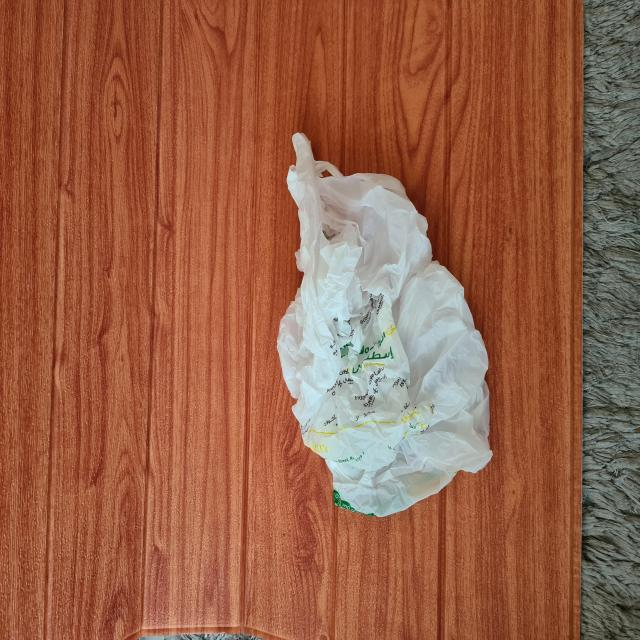plastic bag: (276, 134, 496, 516)
